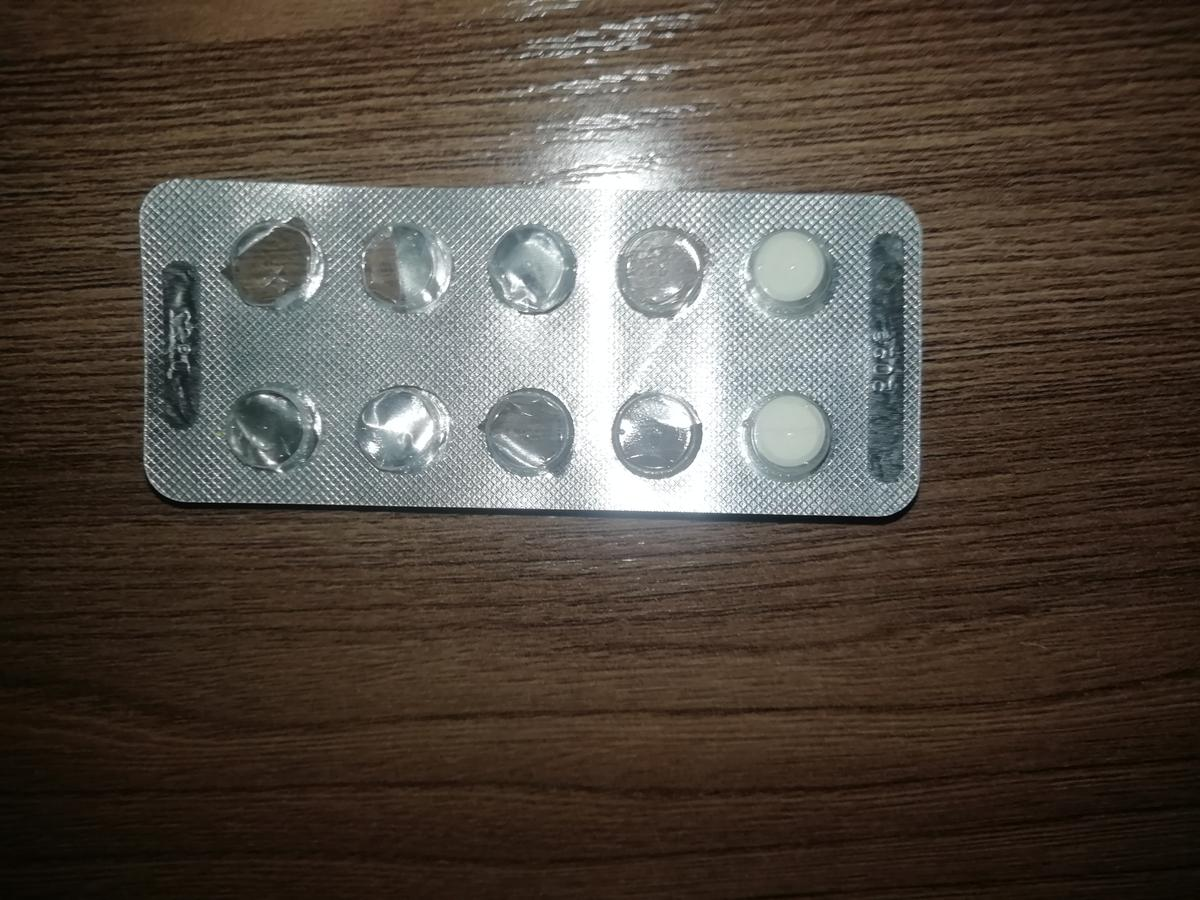tablet: (744, 217, 840, 321), (741, 385, 837, 489)
